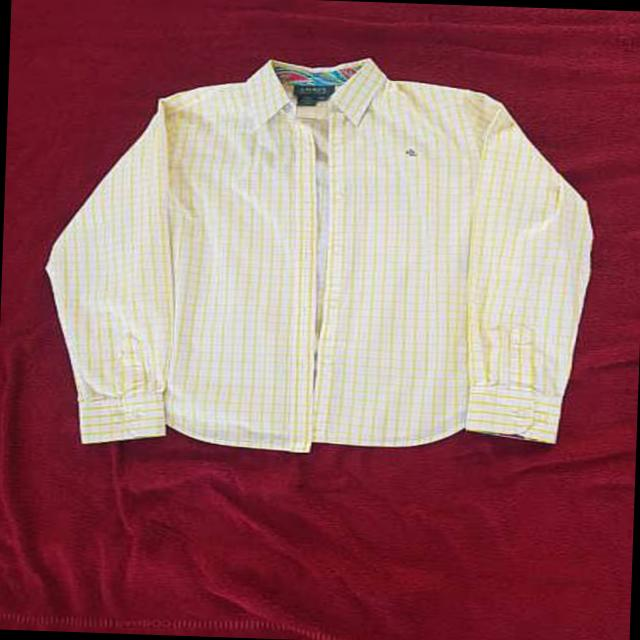SHIRT: (17, 42, 610, 472)
